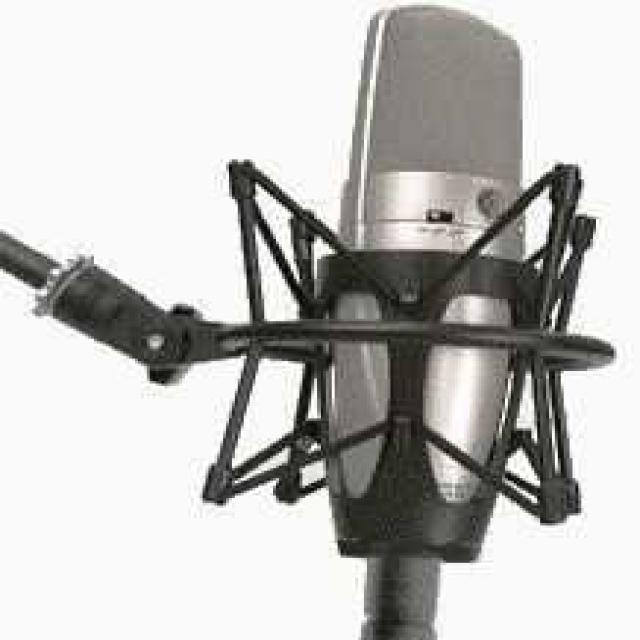microphone: (319, 4, 566, 587)
